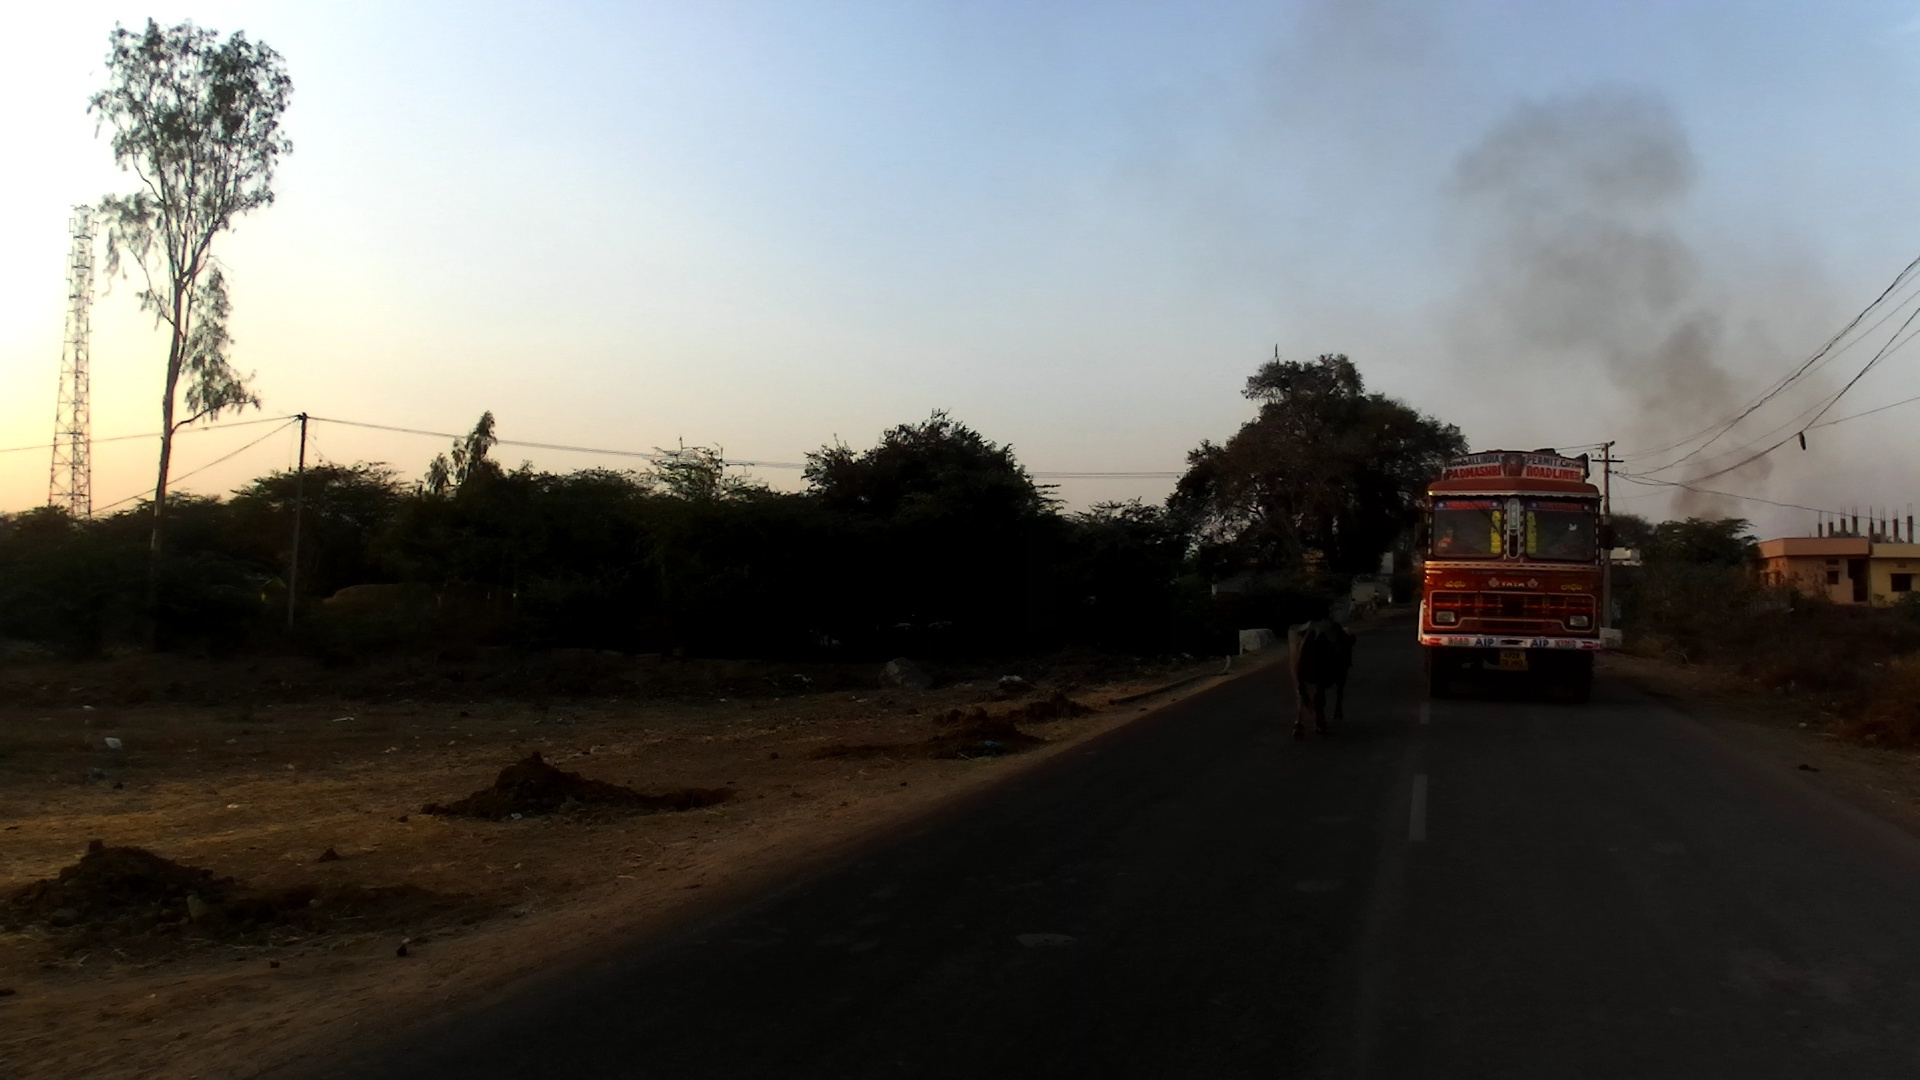animal: (1276, 621, 1356, 732)
truck: (1414, 446, 1607, 709)
